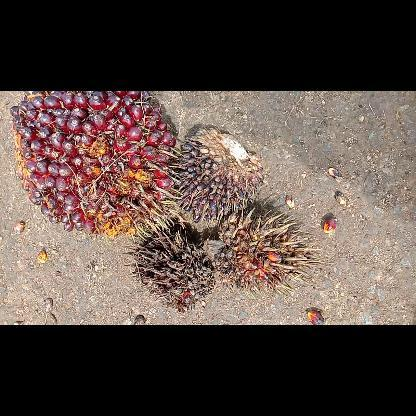TBS abnormal: (200, 210, 336, 292), (172, 126, 264, 224), (124, 218, 216, 310)
TBS masak: (9, 92, 178, 238)
